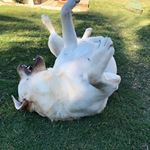puppy: (9, 52, 63, 123)
